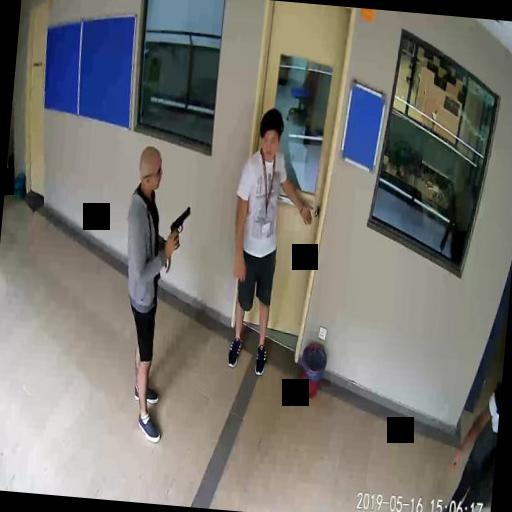Handgun: (168, 204, 190, 248)
